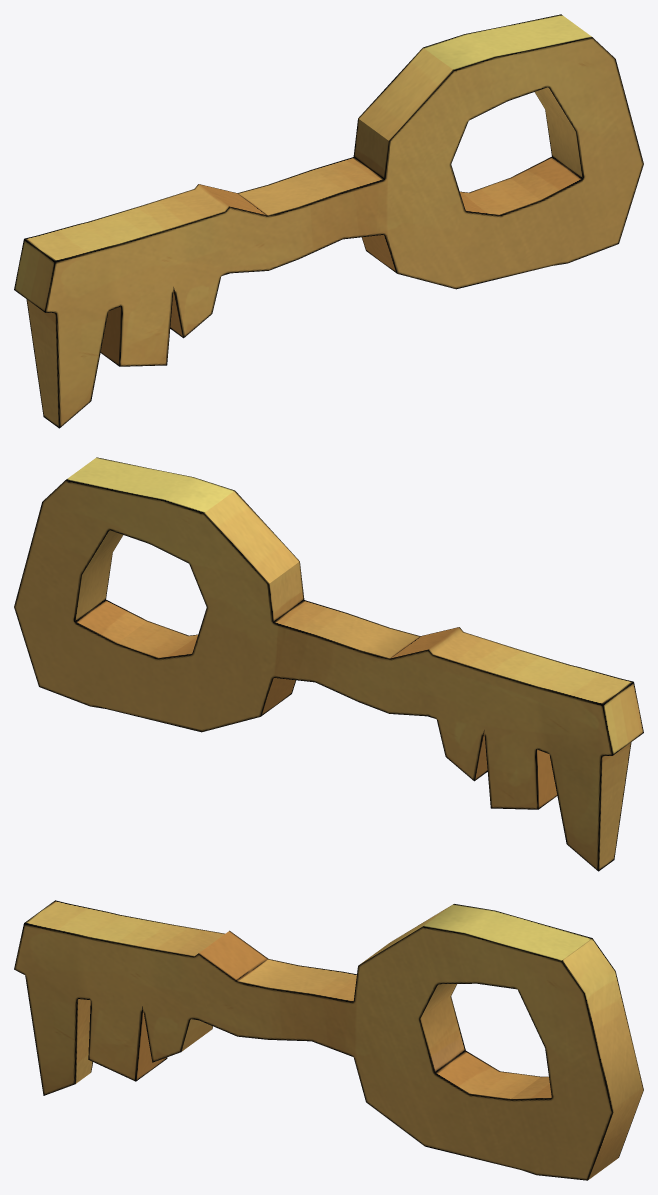
File: Key_TEXTURED.fbx
3 renders of one model, top to bottom at view 1: azimuth 30°, elevation 25°; view 2: azimuth 150°, elevation 25°; view 3: azimuth 330°, elevation 25°, orthographic.
Parts seen in each view (by area): view 1: pCube1; view 2: pCube1; view 3: pCube1.
Part boxes in pixels (x1,y1,x2,y2): pCube1: (14, 14, 643, 428); pCube1: (14, 457, 643, 871); pCube1: (14, 900, 643, 1180).
Size of the model in its own units: 11.07 by 1 by 4.82.
Materials: 1 (1 with a texture image).
